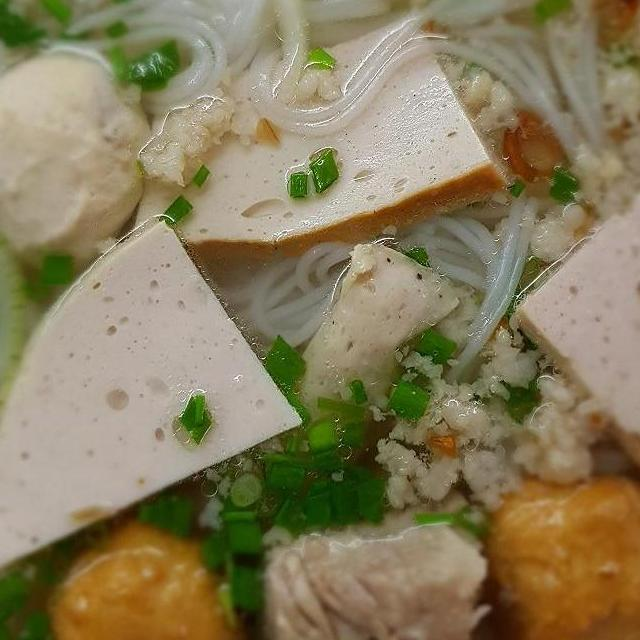bun: (206, 170, 556, 396), (368, 0, 632, 159), (6, 0, 361, 94)
thit bam: (348, 303, 564, 532), (538, 0, 640, 218)
thit heo: (230, 500, 517, 640)
